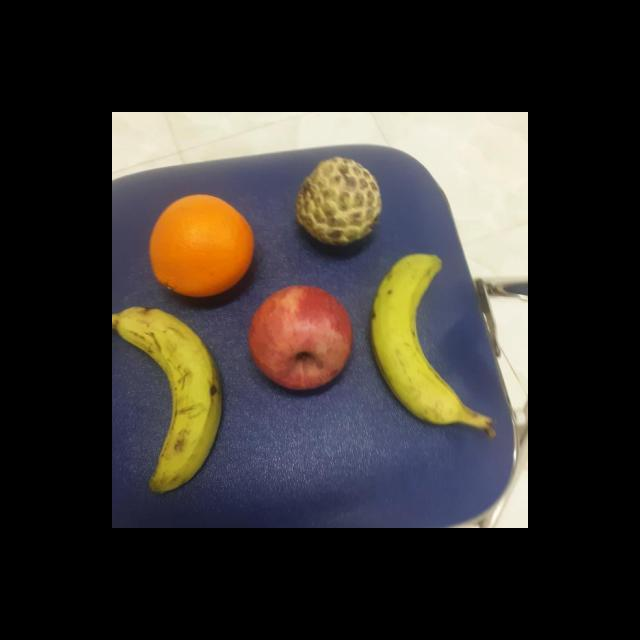Sakya fruit: (294, 154, 386, 250)
apple: (247, 283, 357, 394)
banana: (122, 305, 225, 494), (368, 249, 468, 427)
orange: (146, 193, 255, 300)
